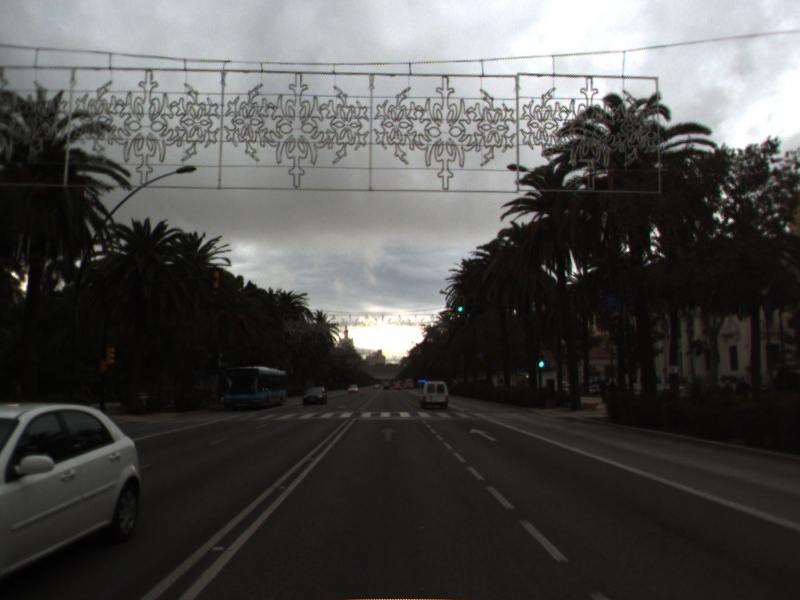STRAIGHT: (467, 425, 499, 444), (379, 425, 400, 443)
